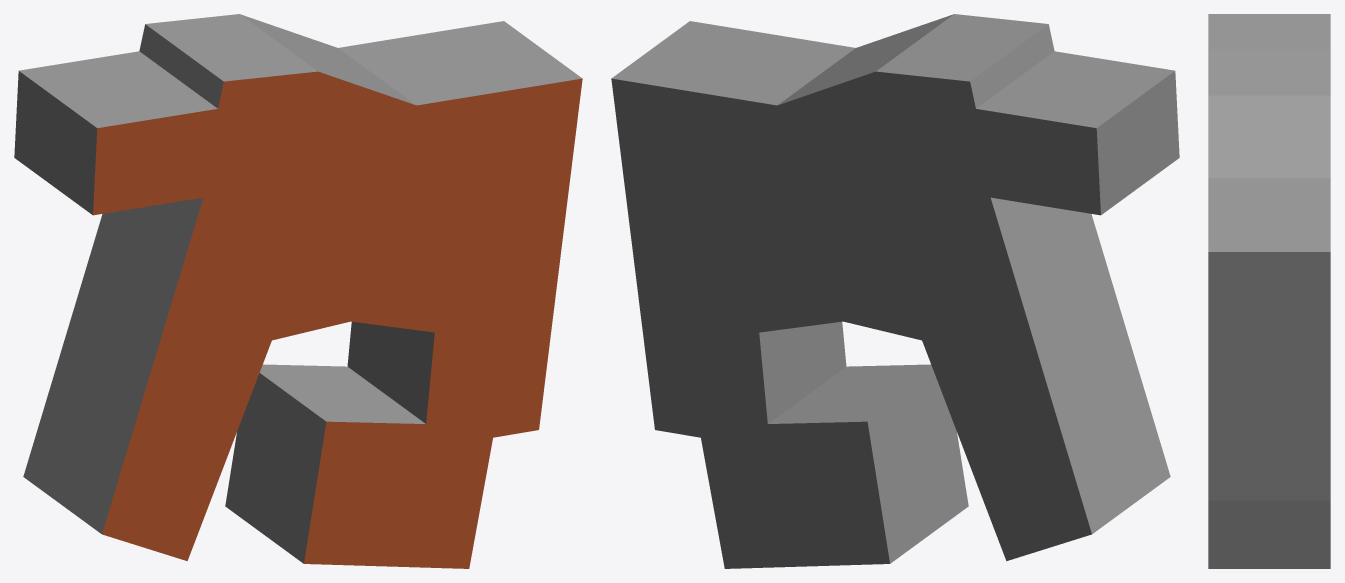
The model's file is construction_3260_assumed_A_Casa_h6m.obj.
3 renders of one model, left to right at view 1: azimuth 30°, elevation 25°; view 2: azimuth 150°, elevation 25°; view 3: azimuth 270°, elevation 25°, orthographic. The views are drawn at different scales.
Visible parts, largest first — view 1: construction_3260_assumed_A_Casa; view 2: construction_3260_assumed_A_Casa; view 3: construction_3260_assumed_A_Casa.
Part boxes in pixels (<box>): construction_3260_assumed_A_Casa: <box>14,14,582,568</box>; construction_3260_assumed_A_Casa: <box>611,14,1179,568</box>; construction_3260_assumed_A_Casa: <box>1208,14,1330,568</box>.
Bounding box in the file's own units: 21.57 × 23.04 × 6.
